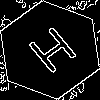H: (25, 25, 86, 83)
